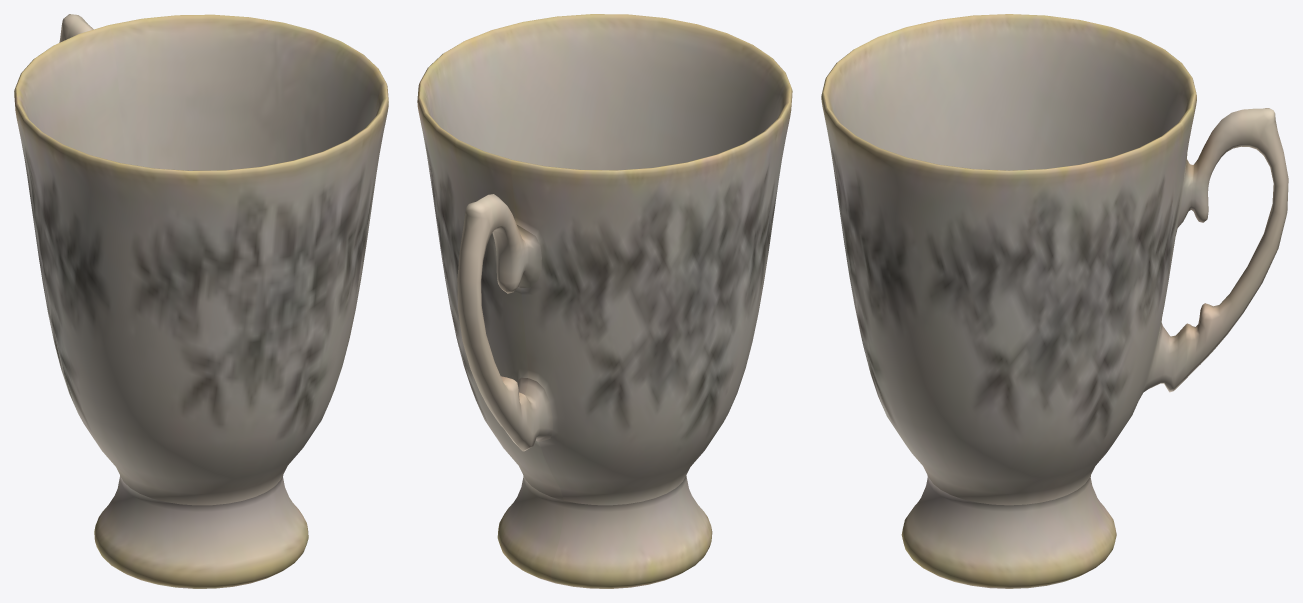
The model's file is teacup.glb.
3 views of the same model, side by side, from view 1: azimuth 30°, elevation 25°; view 2: azimuth 150°, elevation 25°; view 3: azimuth 270°, elevation 25° (orthographic).
Visible parts, largest first — view 1: tea_set_01_cup_small_01.001; view 2: tea_set_01_cup_small_01.001; view 3: tea_set_01_cup_small_01.001.
Part boxes in pixels (x1=…): tea_set_01_cup_small_01.001: x1=14, y1=14, x2=388, y2=588; tea_set_01_cup_small_01.001: x1=417, y1=14, x2=792, y2=588; tea_set_01_cup_small_01.001: x1=821, y1=14, x2=1288, y2=588.
Bounding box in the file's own units: 2.48 × 3.31 × 3.08.
Materials: 1 (1 with a texture image).
